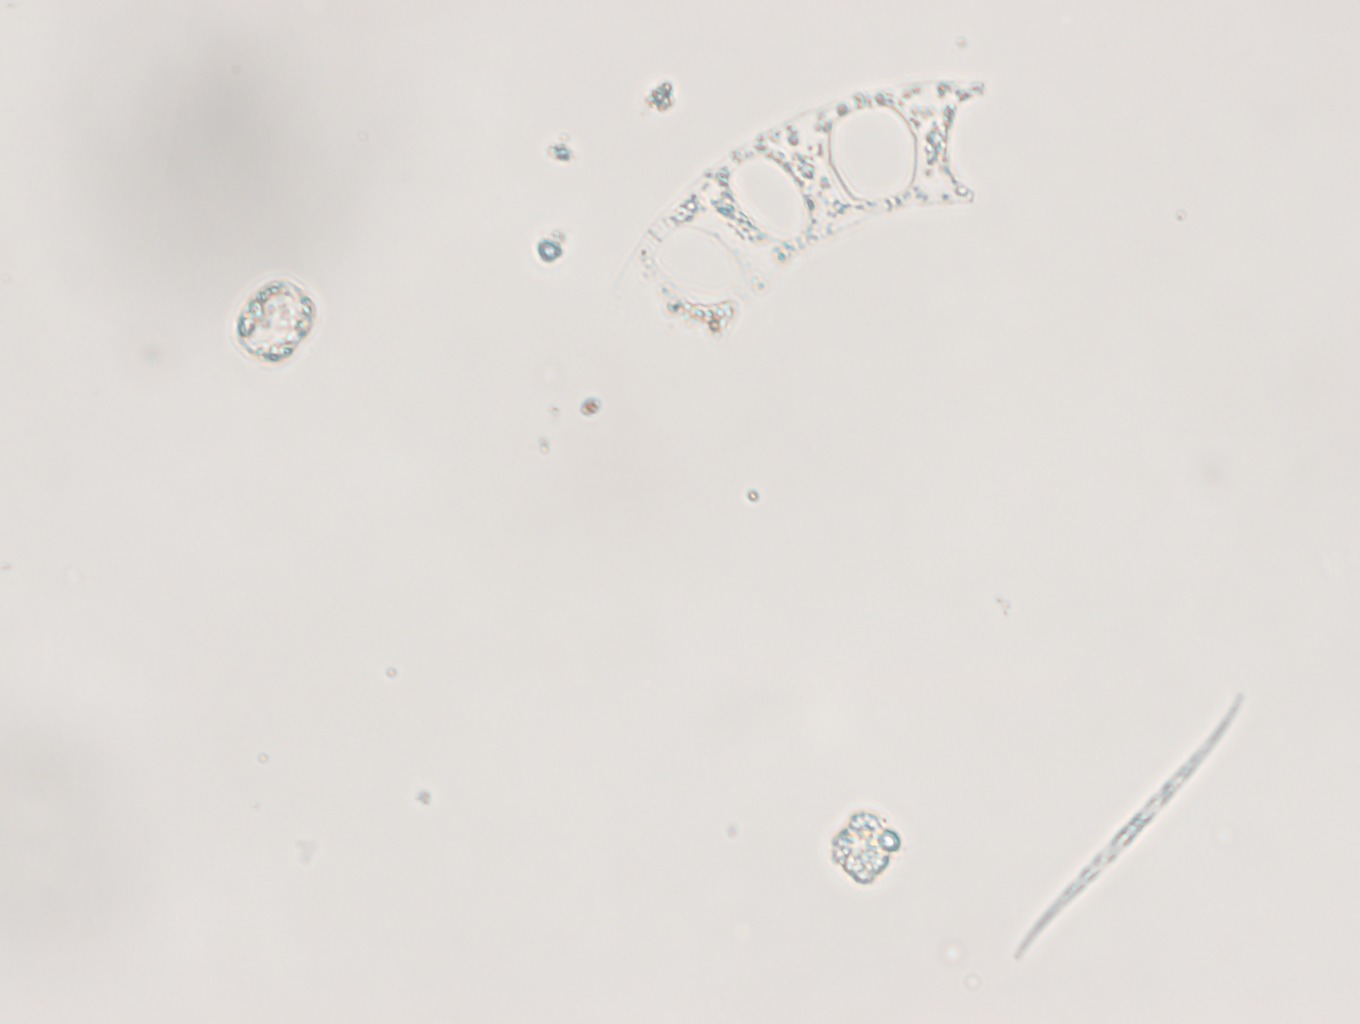eucampia: (629, 75, 989, 338)
pleurosigma pelagicum: (1017, 689, 1244, 962)
